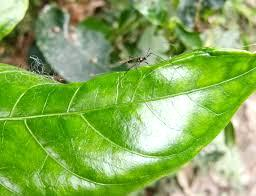Helopeltis-insect: (125, 51, 150, 72)
